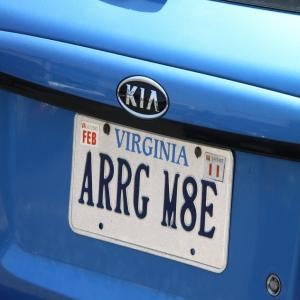Vehicle-registration-plate: (68, 112, 229, 275)
